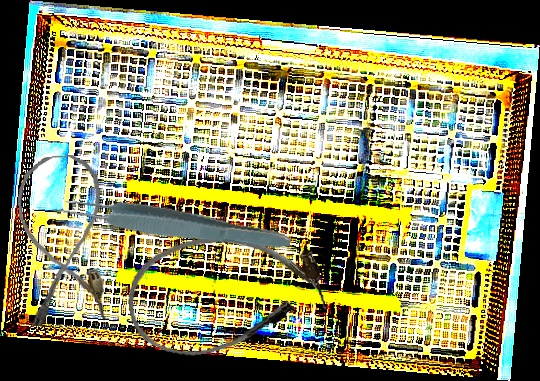Cannula: (120, 221, 330, 365), (15, 153, 109, 327)
Tissue Forceps: (56, 189, 293, 257)
